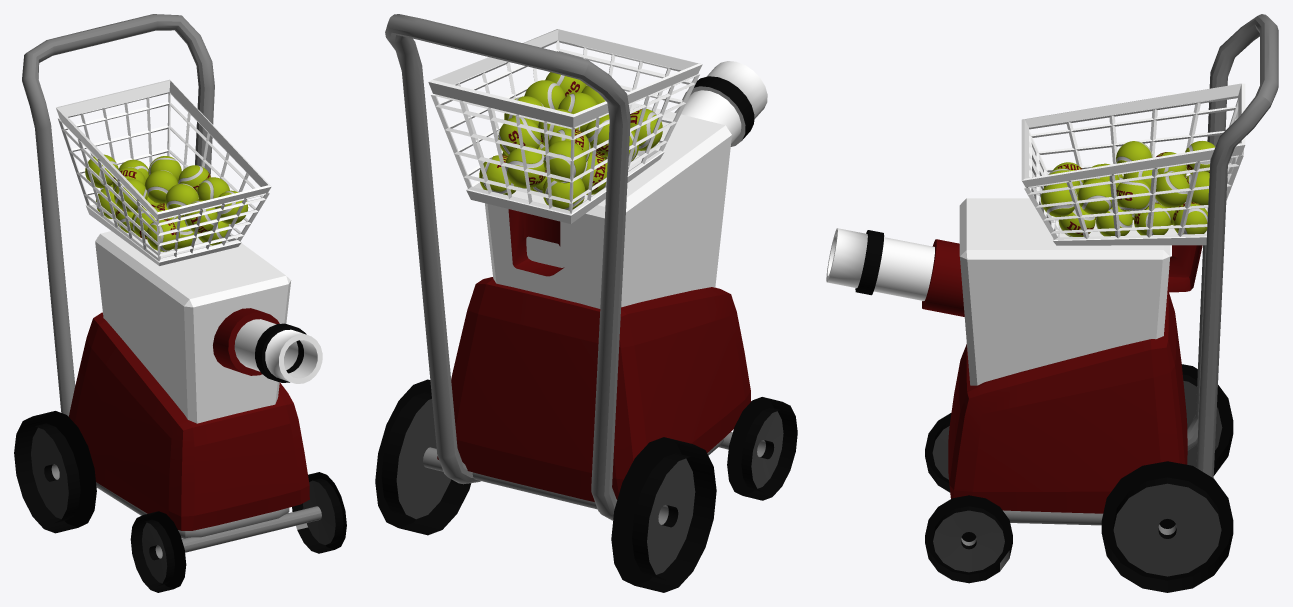
File: Prop_BallLauncher_A.obj
3 renders of one model, left to right at view 1: azimuth 30°, elevation 25°; view 2: azimuth 150°, elevation 25°; view 3: azimuth 270°, elevation 25°, orthographic. The views are drawn at different scales.
Parts seen in each view (by area): view 1: base_bot; view 2: base_bot; view 3: base_bot.
Boxes of the visible parts, x1,y1,x2,y2 form: base_bot: (14, 14, 346, 592); base_bot: (375, 14, 797, 592); base_bot: (826, 14, 1278, 592).
Size of the model in its own units: 0.5557 by 1.13 by 0.948.
